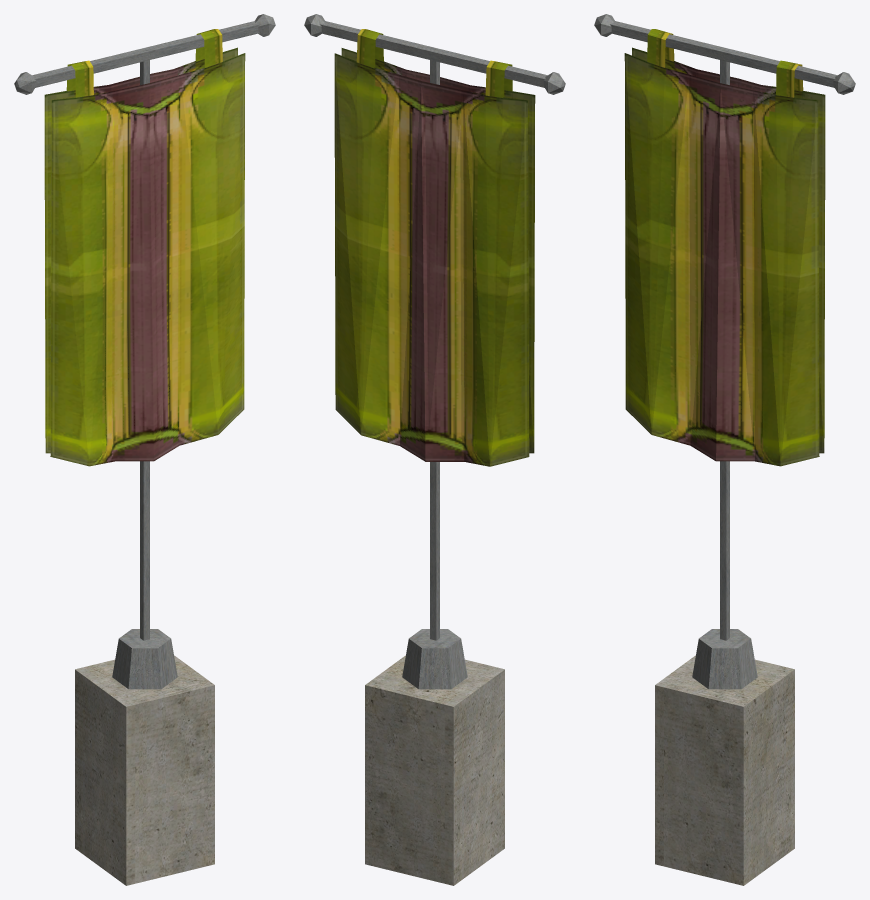
File: thm_all_banner_generic_s02_l1.fbx
The picture shows the model from 3 angles, left to right: view 1: azimuth 30°, elevation 25°; view 2: azimuth 150°, elevation 25°; view 3: azimuth 330°, elevation 25°; orthographic projection.
Parts seen in each view (by area): view 1: mesh_node; view 2: mesh_node; view 3: mesh_node.
Boxes of the visible parts, x1=… form: mesh_node: x1=14, y1=14, x2=275, y2=885; mesh_node: x1=304, y1=14, x2=565, y2=885; mesh_node: x1=594, y1=14, x2=855, y2=885.
Bounding box in the file's own units: 2.19 × 6.56 × 0.75.
